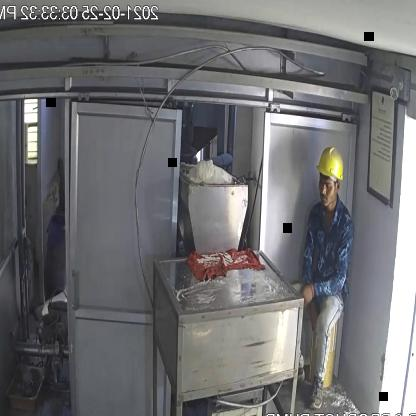helmet: (315, 146, 347, 183)
